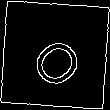O_NE: (21, 22, 89, 88)
